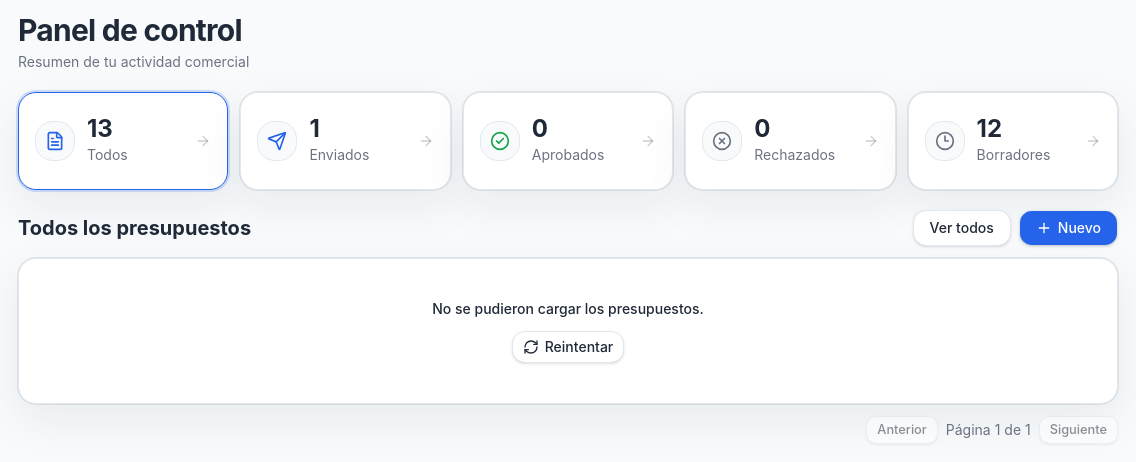
Test: Dashboard › permite reintentar la carga de presupuestos después de un error
Expected: the text "No se pudieron cargar los presupuestos." is shown, [432, 299, 704, 319]
Click the button "Reintentar": (568, 347) [512, 331, 624, 363]
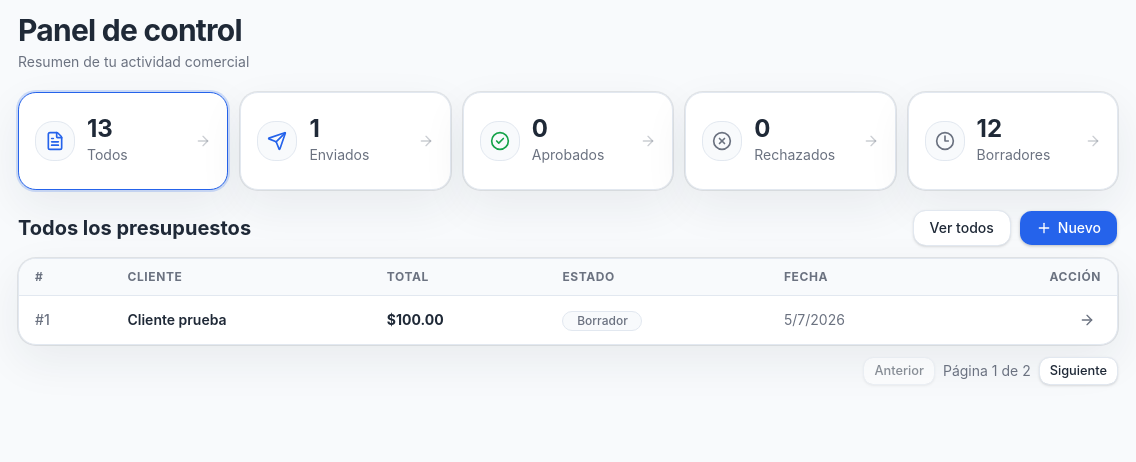
Expected: the text "Cliente prueba" is shown, [112, 296, 371, 344]
